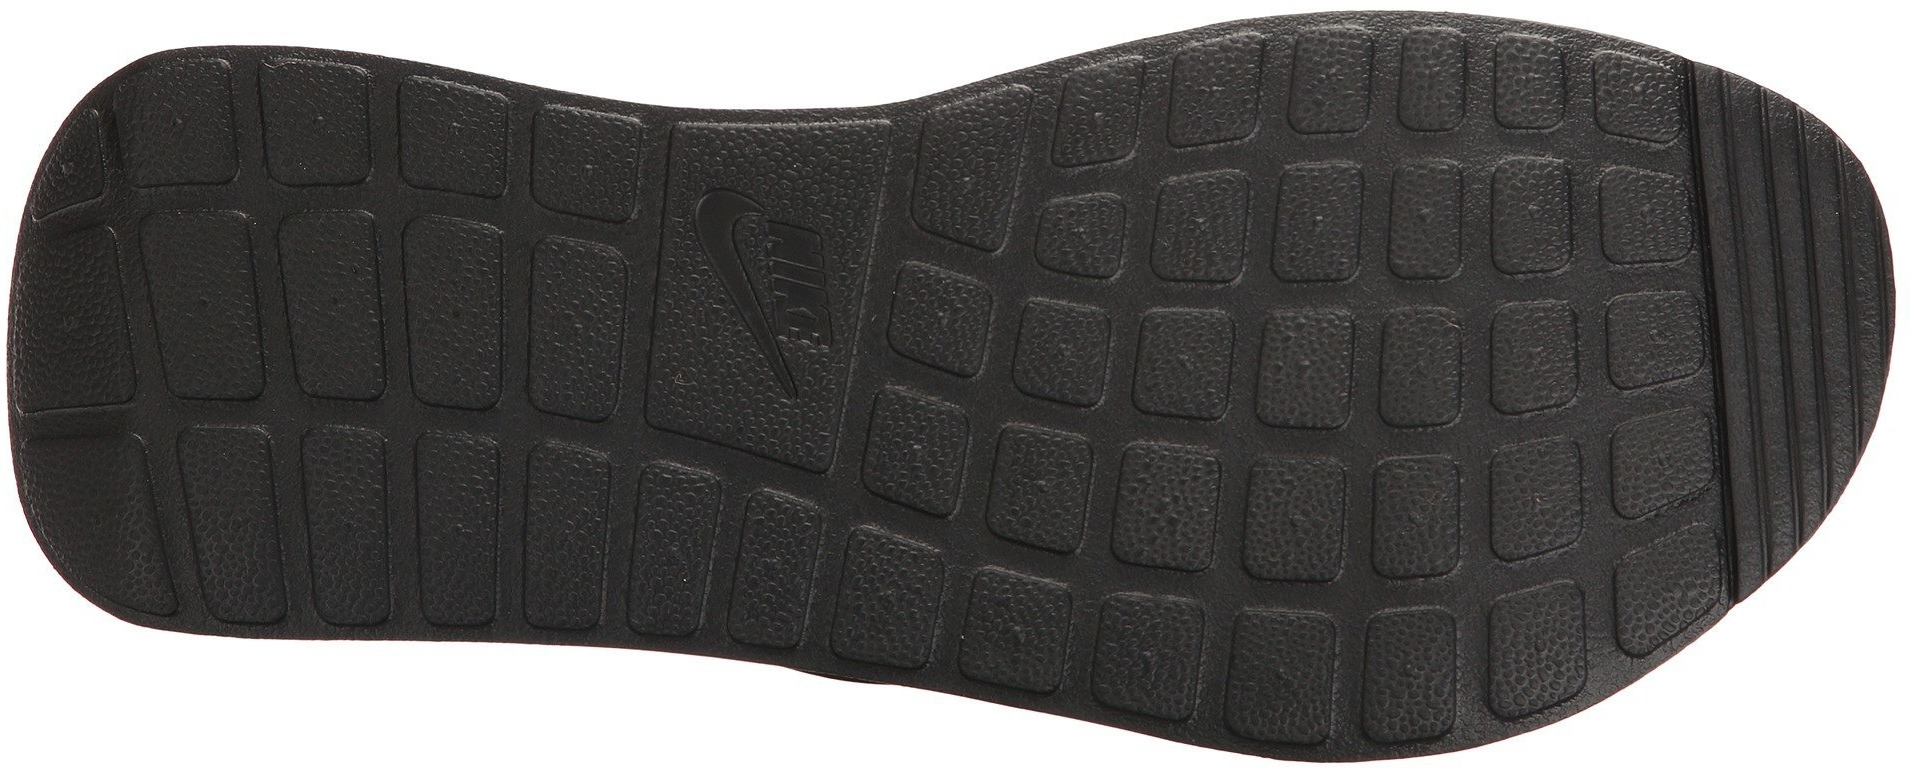circle: (119, 194, 526, 643), (1143, 155, 1496, 540), (849, 385, 1107, 664)
line: (1694, 147, 1860, 310), (1710, 314, 1859, 472)
other: (1010, 62, 1671, 687)
quad: (1116, 50, 1736, 672), (83, 74, 654, 634), (608, 127, 1145, 697), (119, 194, 526, 643), (1143, 155, 1496, 540), (849, 385, 1107, 664)
text: (717, 200, 879, 366)
